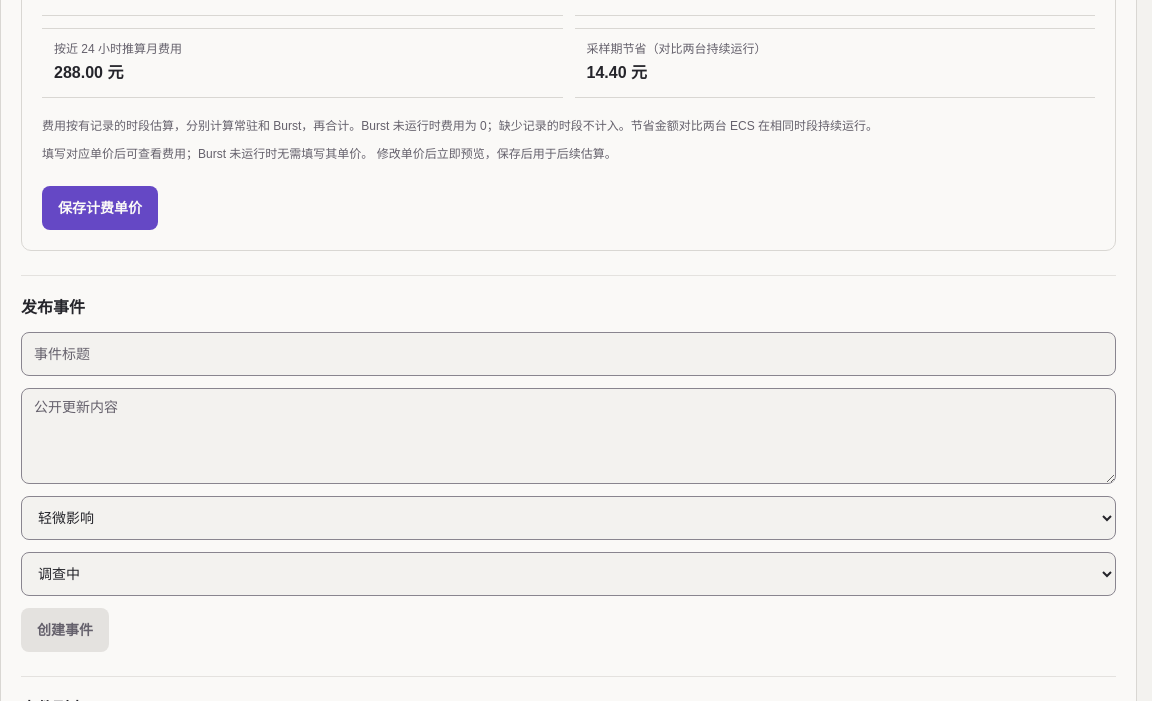
Scenario: ServiceStatusHistoryPanel › creates incidents and disables duplicate submission while saving
This screenshot has width=1152, height=701.
(page scrolled)
Type "服务延迟" into the field with placeholder "事件标题" at (568, 354), box [21,332,1116,376]
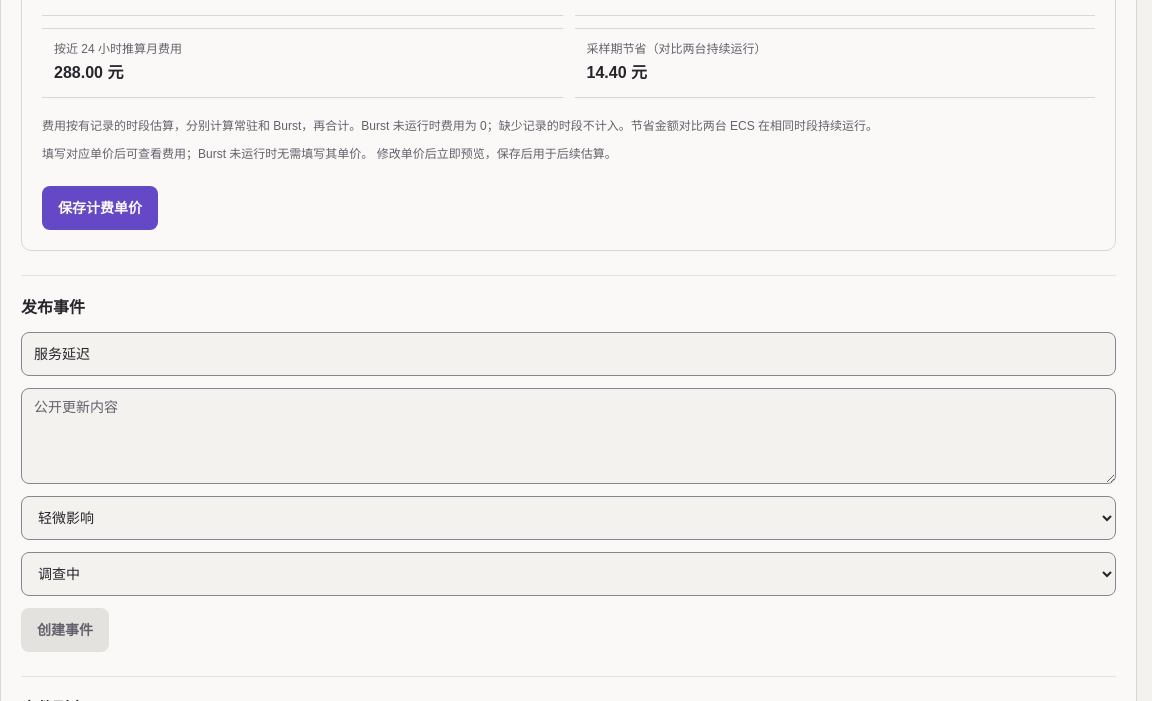
Type "正在调查。" into the text box with placeholder "公开更新内容" at (568, 436), box [21,388,1116,484]
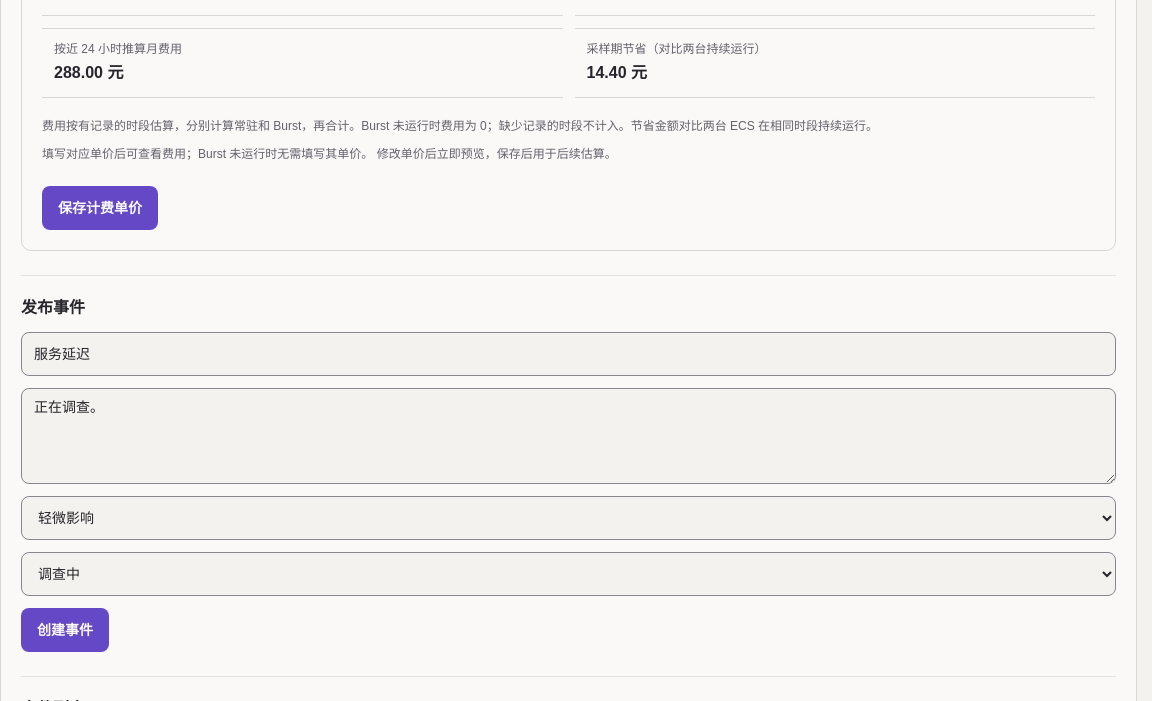
Click the button "创建事件" at (65, 630), box [21,608,109,652]
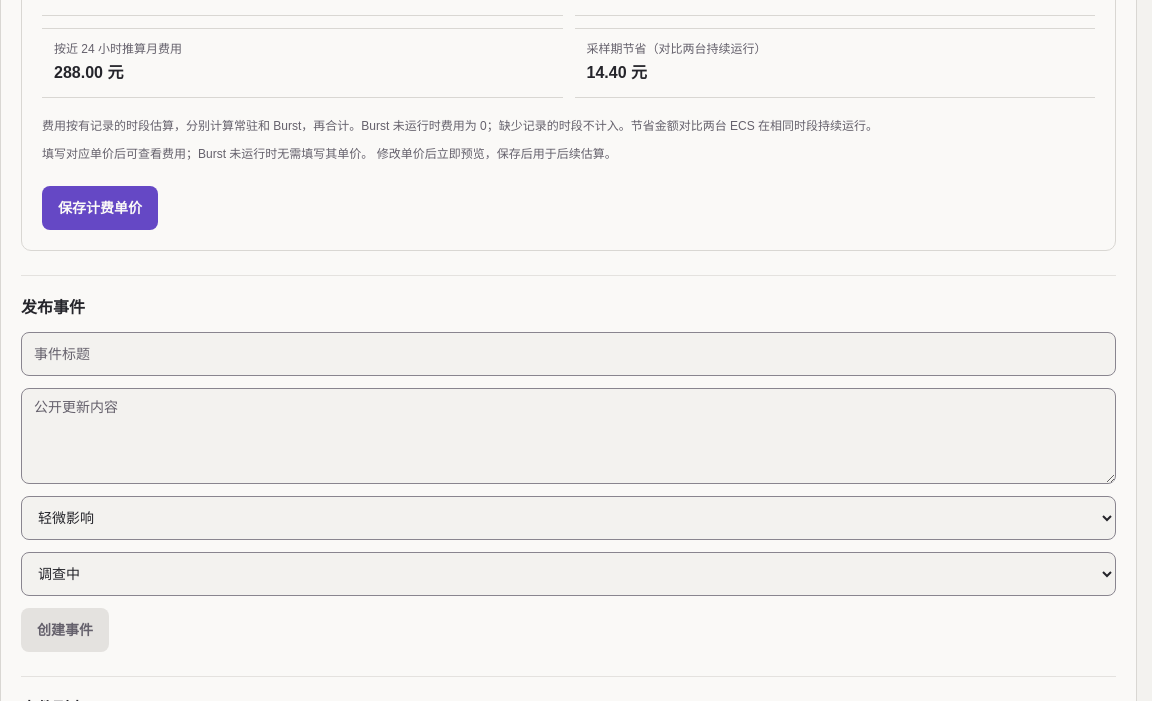
Expected: the button named "保存中…" is disabled, [21,608,109,652]
